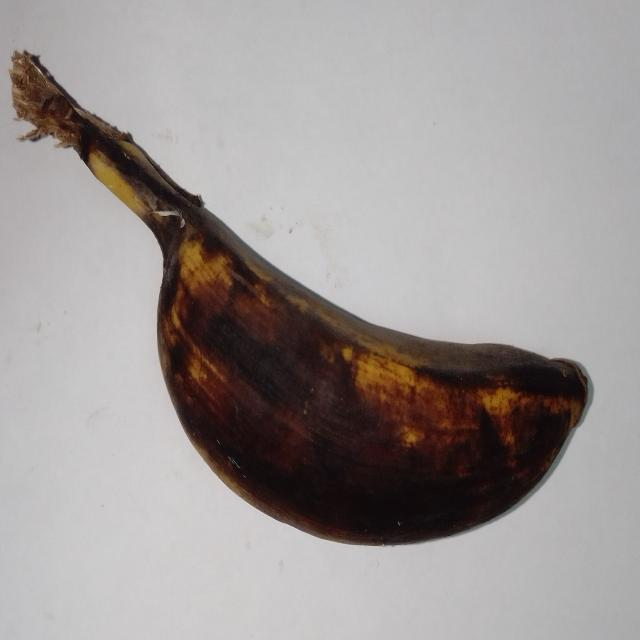banana: (11, 53, 587, 544)
